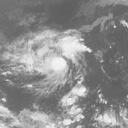cyclone: (36, 33, 86, 84)
